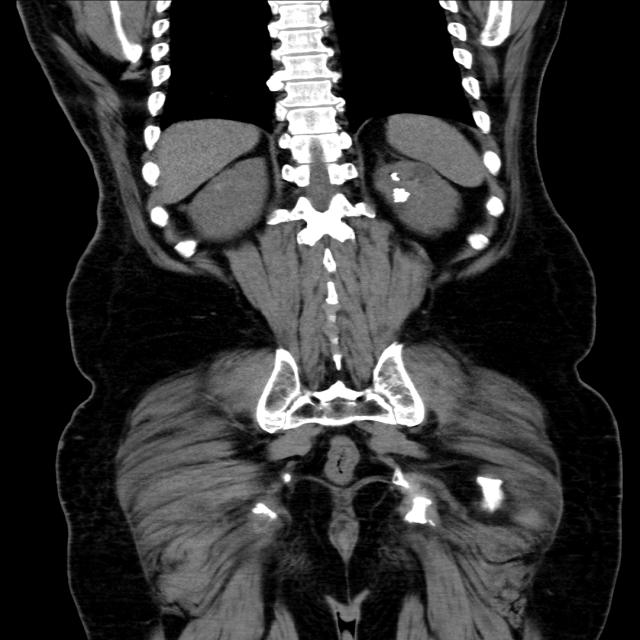kidneystone: (391, 188, 411, 202), (390, 172, 399, 181)
